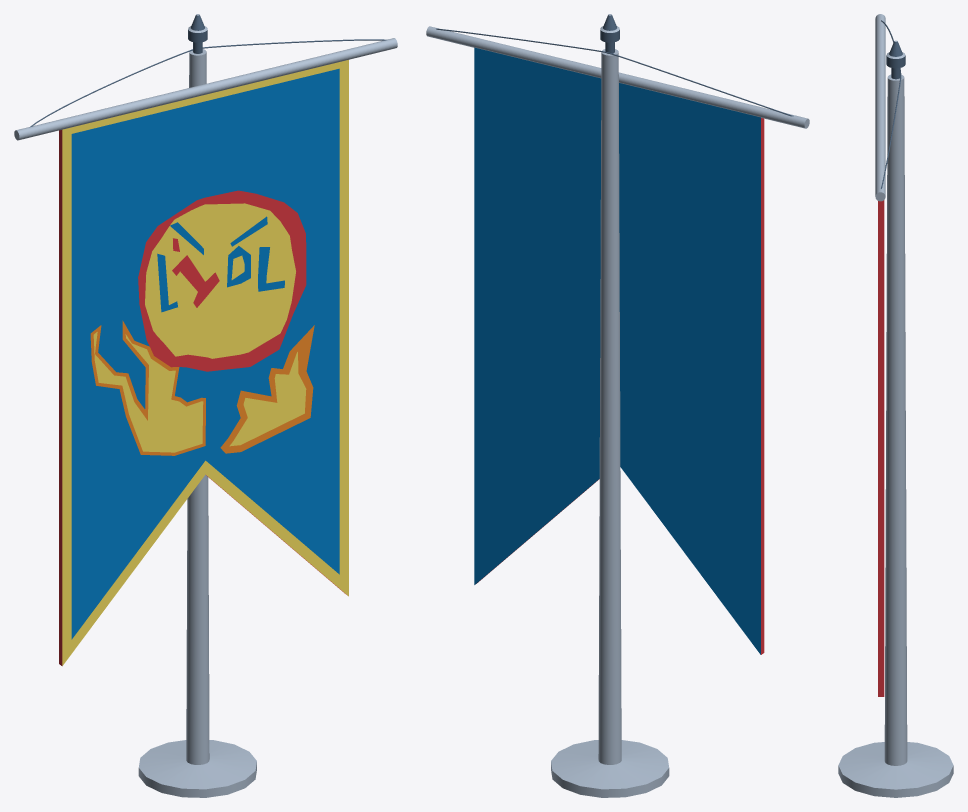
The model's file is LidlBanner.fbx.
3 views of the same model, side by side, from view 1: azimuth 30°, elevation 25°; view 2: azimuth 150°, elevation 25°; view 3: azimuth 270°, elevation 25° (orthographic). The views are drawn at different scales.
Parts seen in each view (by area): view 1: Cube.016, Cylinder.006, Cylinder.005, BezierCurve.001; view 2: Cube.016, Cylinder.006, Cylinder.005, BezierCurve.001; view 3: Cylinder.006, Cube.016, Cylinder.005, BezierCurve.001.
Boxes of the visible parts, left/top/right/bottom form: Cube.016: left=59, top=60, right=348, bottom=666; Cylinder.006: left=138, top=14, right=256, bottom=797; Cylinder.005: left=14, top=38, right=397, bottom=140; BezierCurve.001: left=30, top=39, right=387, bottom=127; Cube.016: left=474, top=47, right=764, bottom=654; Cylinder.006: left=551, top=14, right=669, bottom=797; Cylinder.005: left=426, top=26, right=809, bottom=128; BezierCurve.001: left=436, top=28, right=793, bottom=116; Cylinder.006: left=838, top=40, right=953, bottom=797; Cube.016: left=878, top=200, right=884, bottom=696; Cylinder.005: left=875, top=14, right=885, bottom=201; BezierCurve.001: left=881, top=20, right=901, bottom=188.
Size of the model in its own units: 1192 by 2282 by 325.
